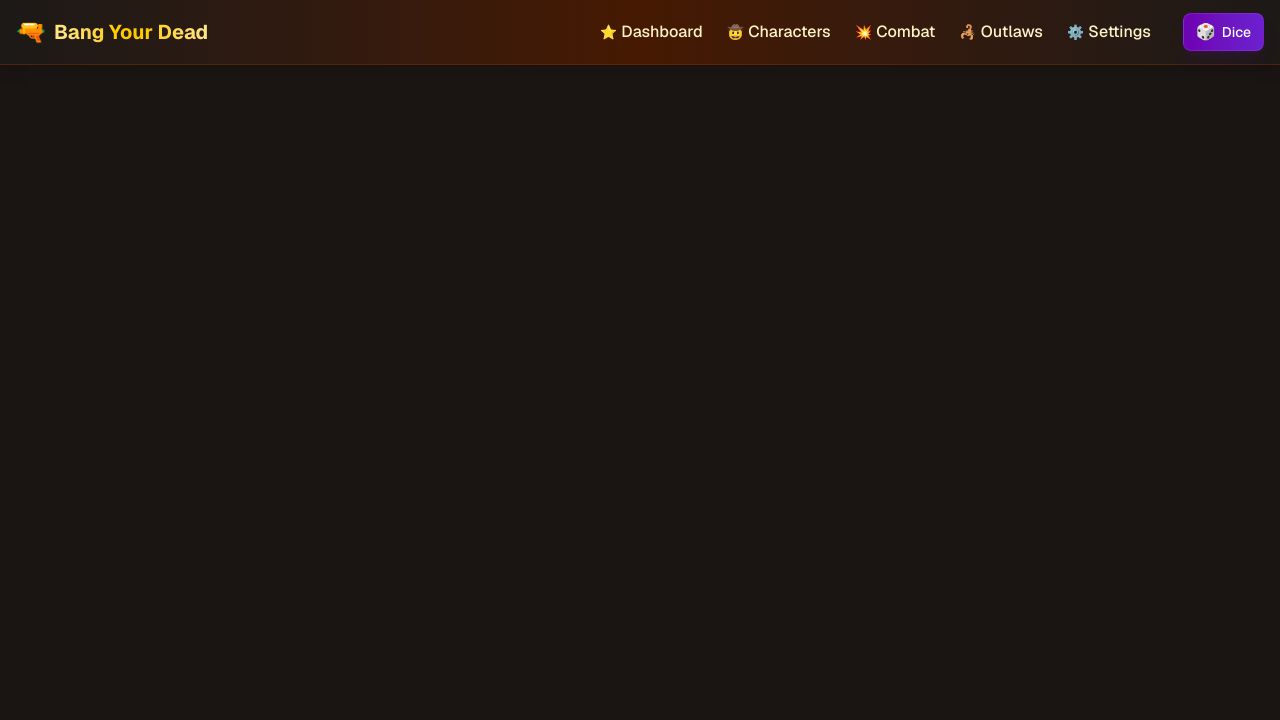
Test: Navigation › dice roller modal › should close dice modal when close button is clicked
# Open modal
Click the button with aria-label "open dice roller" at (1223, 32), box [1183,13,1264,51]
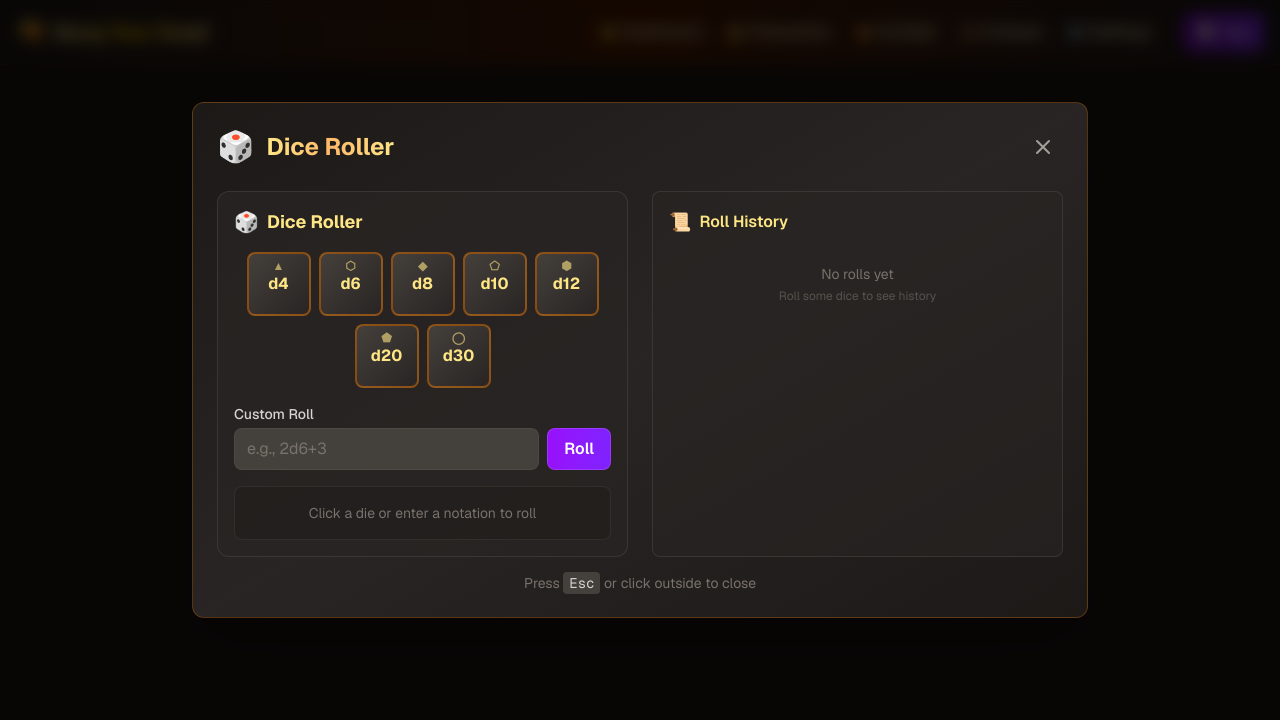
Expected: the dialog is shown
# Close modal
Click the button named "close dice roller" at (1043, 147), box [1023,127,1063,167]
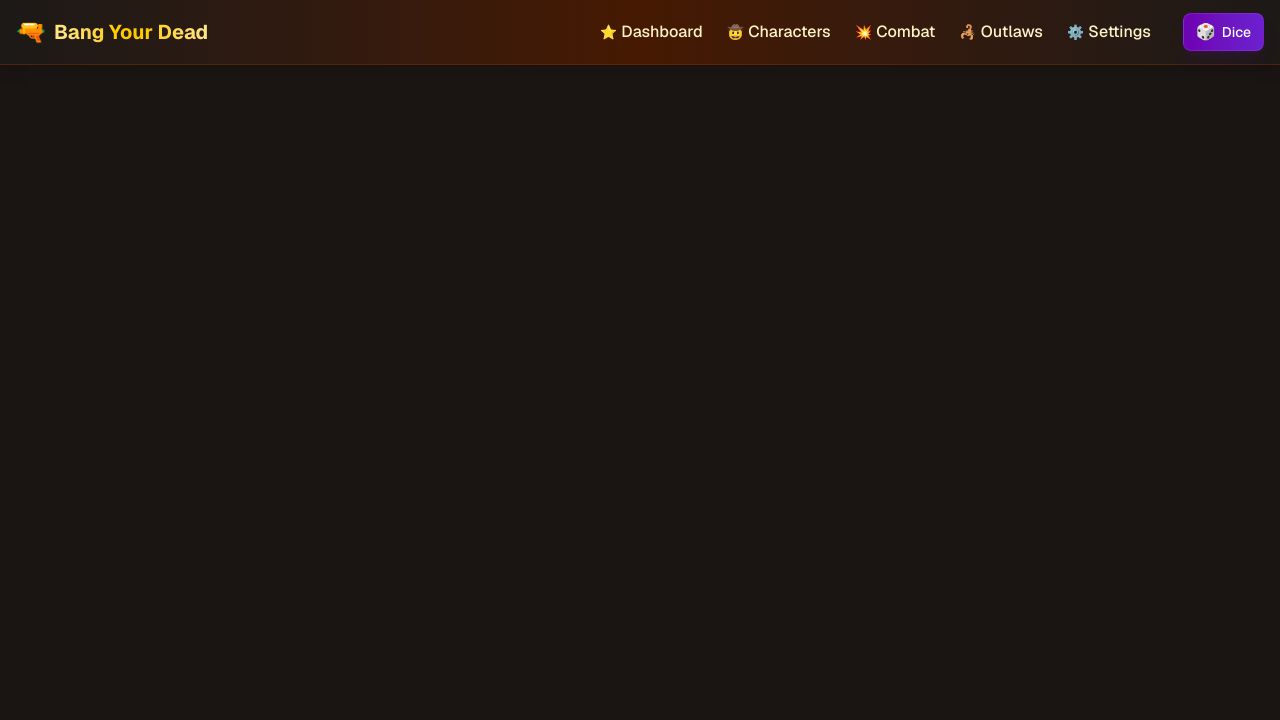
Expected: the dialog is gone
